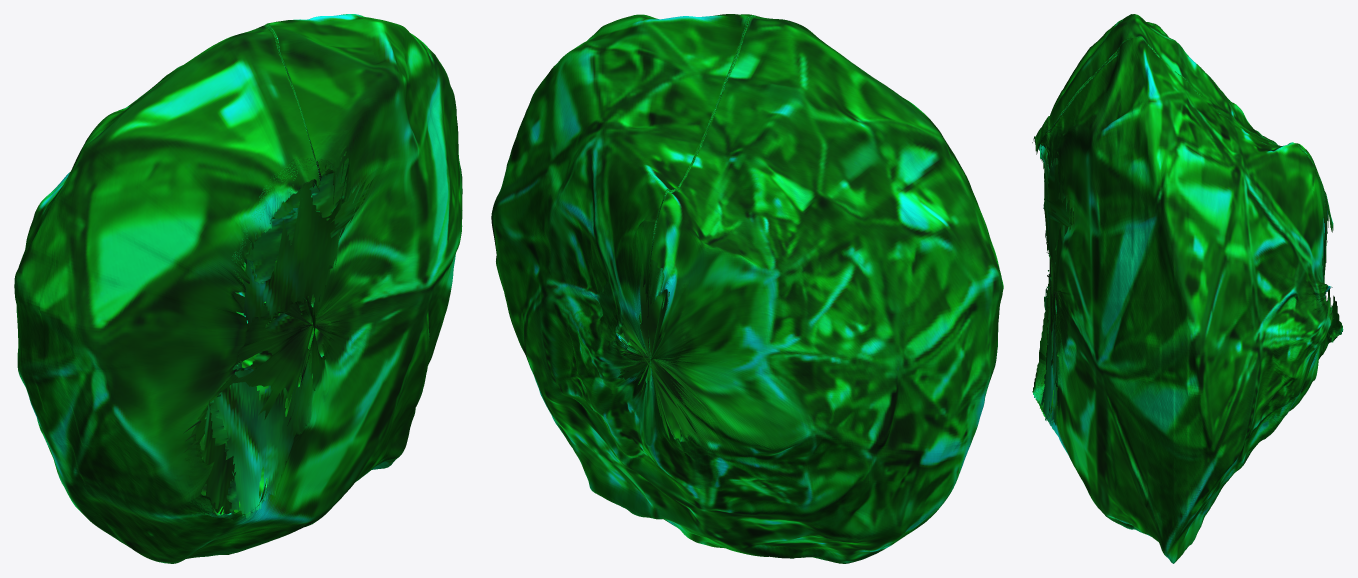
Rendered from mesh_inpaint.glb.
3 renders of one model, left to right at view 1: azimuth 30°, elevation 25°; view 2: azimuth 150°, elevation 25°; view 3: azimuth 270°, elevation 25°, orthographic. The views are drawn at different scales.
Visible parts, largest first — view 1: ipn, fill; view 2: ipn; view 3: ipn, fill.
Part boxes in pixels (bbox=[...]): ipn: bbox=[14, 14, 462, 563]; fill: bbox=[203, 149, 368, 518]; ipn: bbox=[491, 14, 1003, 563]; ipn: bbox=[1032, 14, 1343, 563]; fill: bbox=[1038, 139, 1073, 425].
Bounding box in the file's own units: 1.75 × 1.82 × 1.05.
2 materials, 1 textured.
